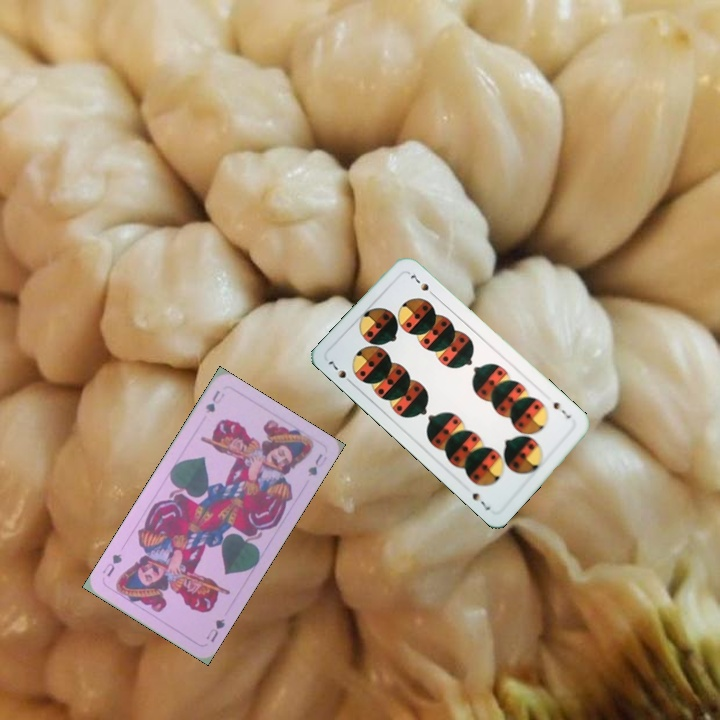GU: (201, 386, 227, 416), (202, 615, 227, 645)
S7: (324, 357, 356, 388), (549, 398, 573, 421)
